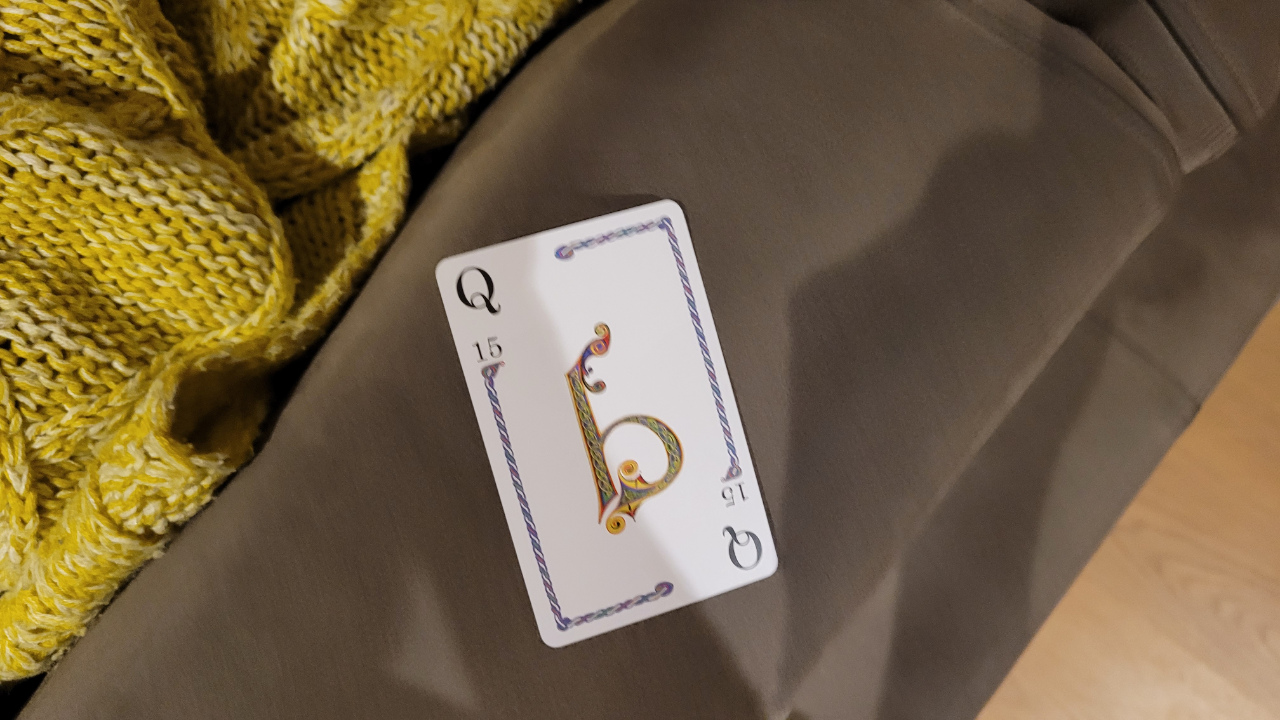quiddler_card: (417, 201, 811, 651)
